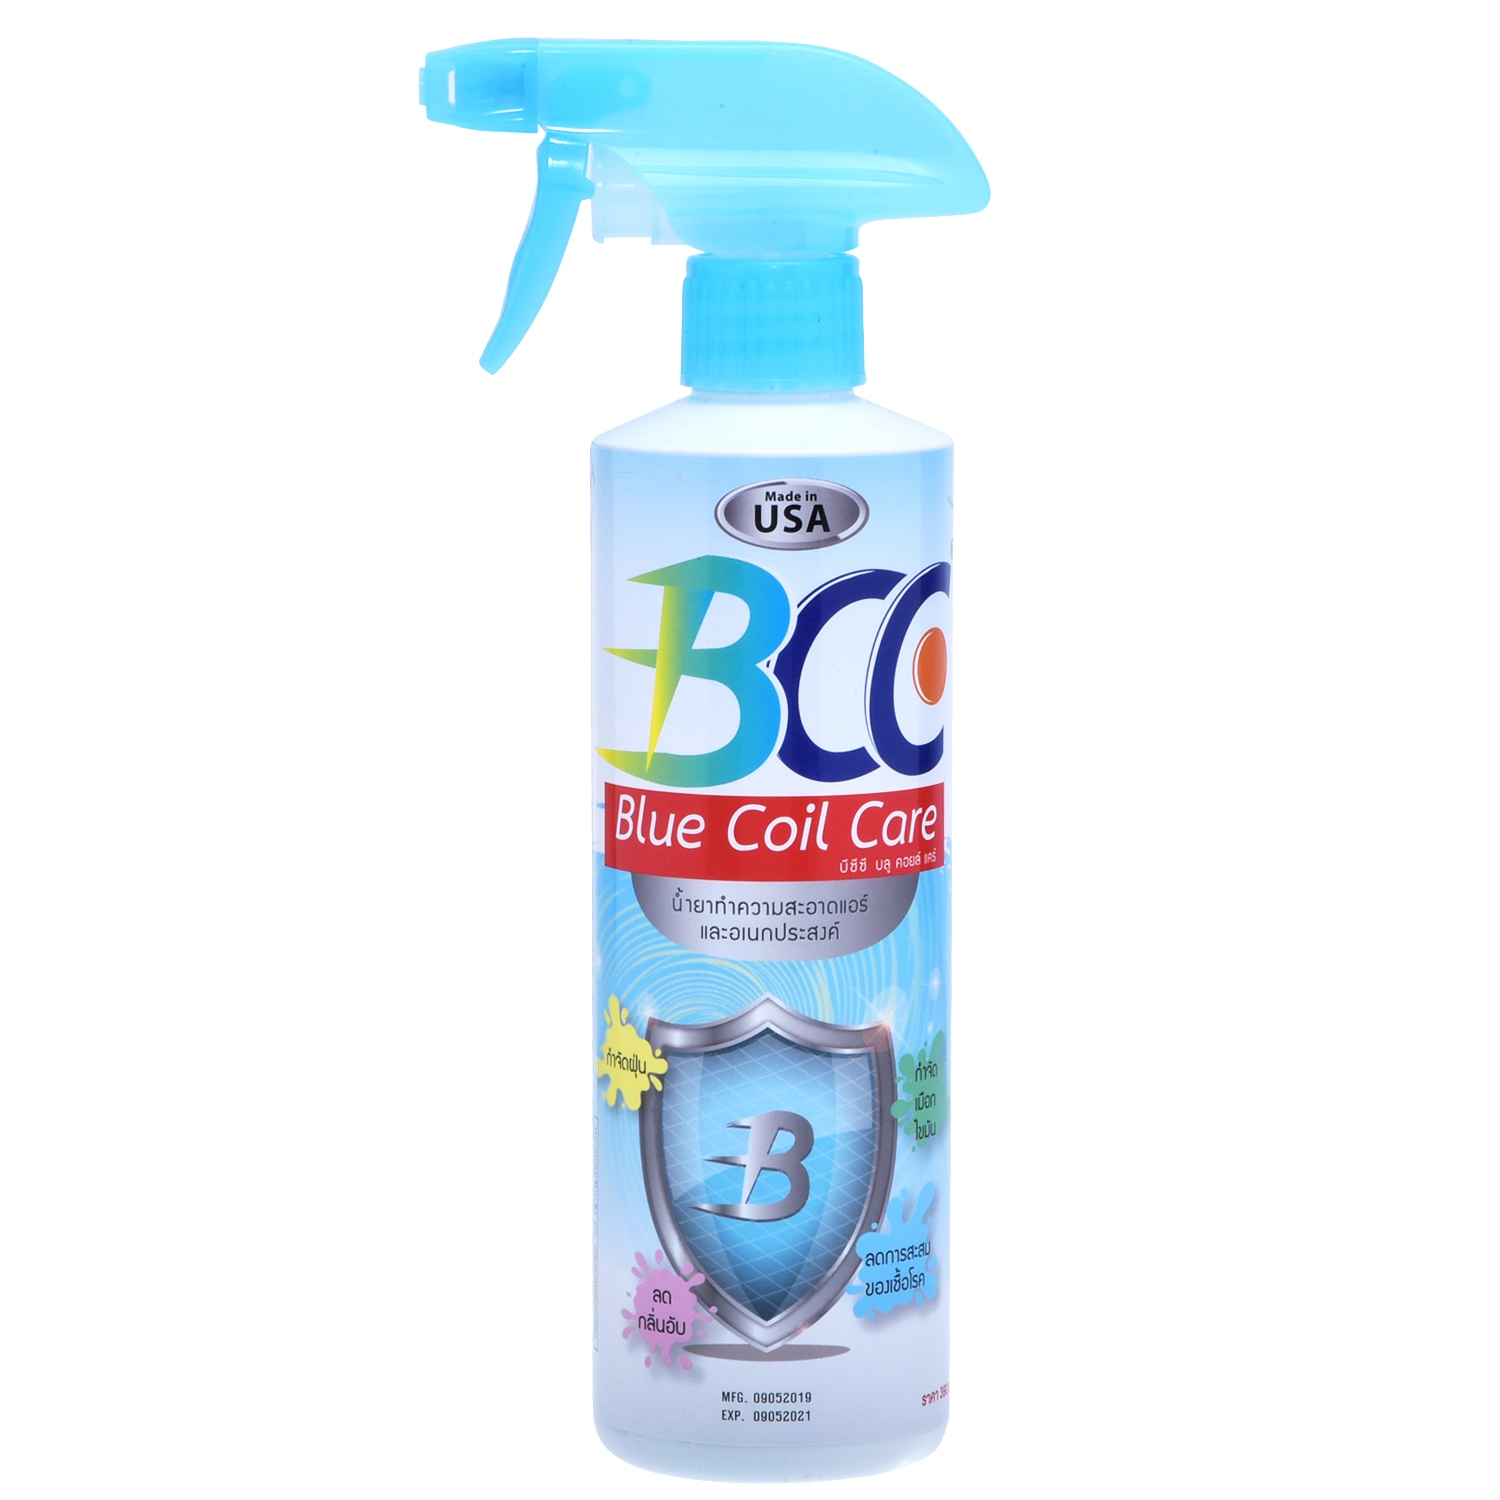Cleaning_solution: (402, 11, 1011, 1488)
